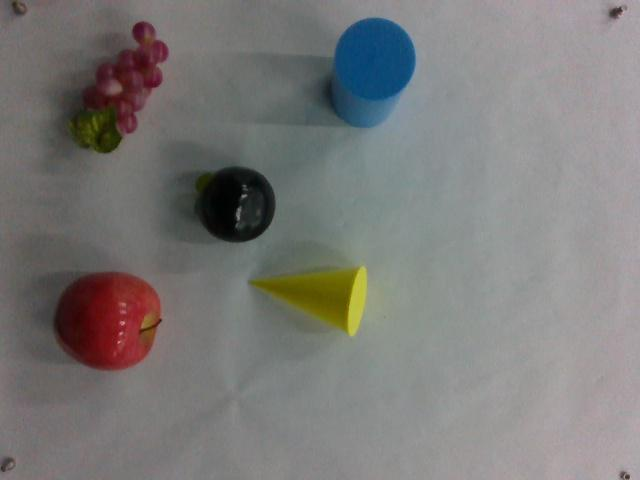apple: (50, 269, 163, 373)
cone: (249, 263, 372, 341)
cylinder: (326, 15, 419, 128)
grape: (69, 18, 166, 156)
mangosteen: (195, 165, 275, 243)
